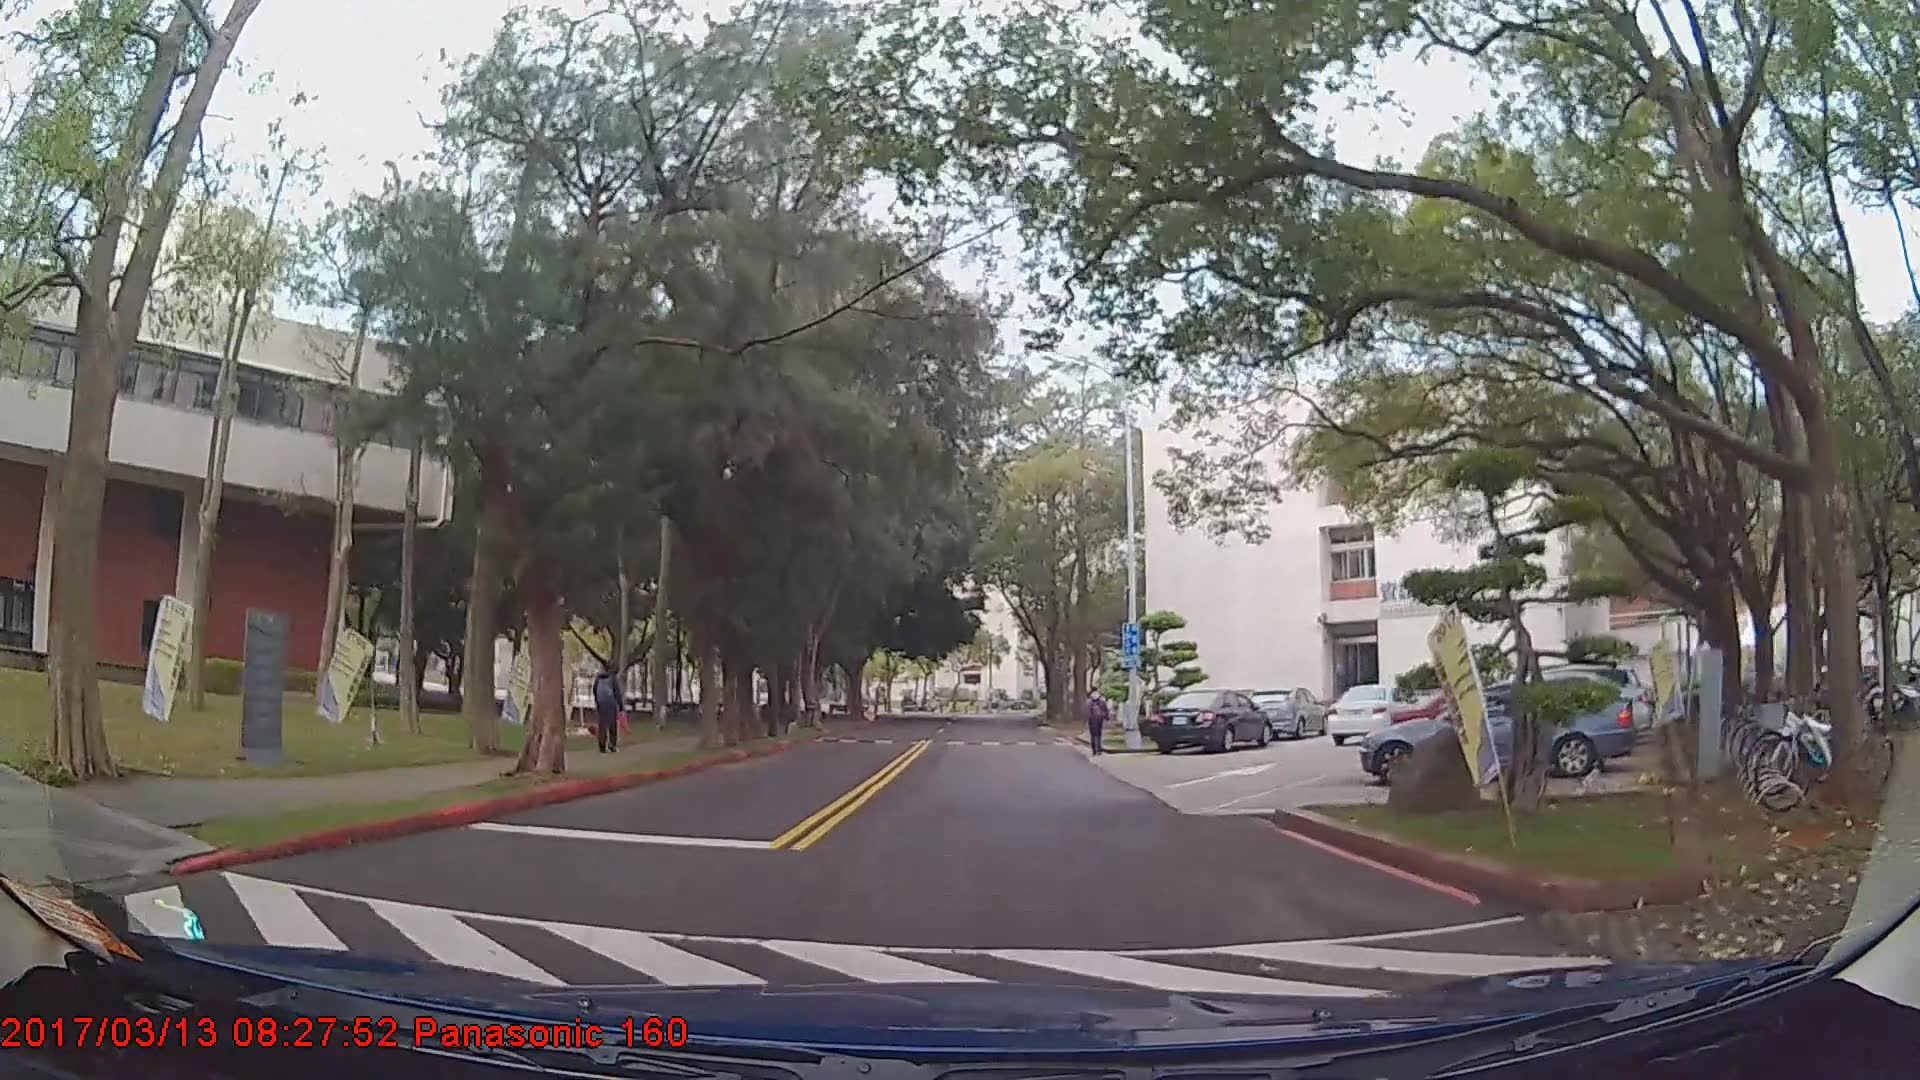pedestrian: (594, 664, 623, 756), (1085, 687, 1113, 759)
vehicle: (1358, 676, 1636, 788), (1146, 690, 1274, 757), (1328, 681, 1417, 745), (1249, 685, 1331, 740)
